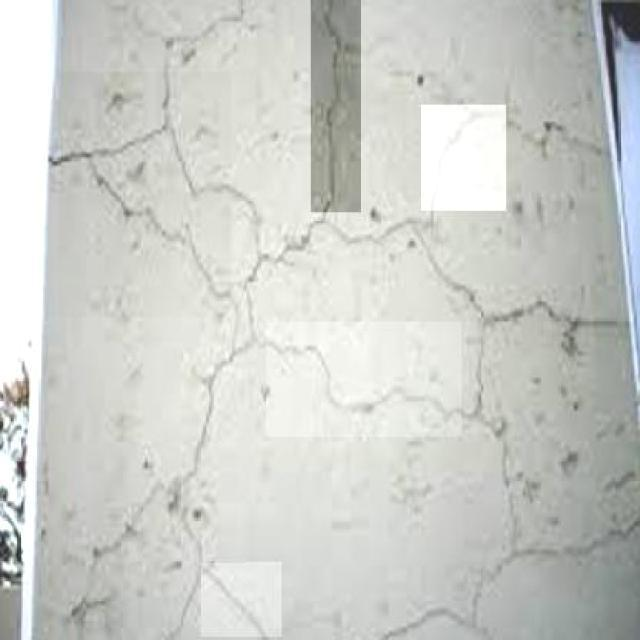crack: (324, 260, 640, 540), (62, 84, 280, 300), (116, 378, 276, 640)
